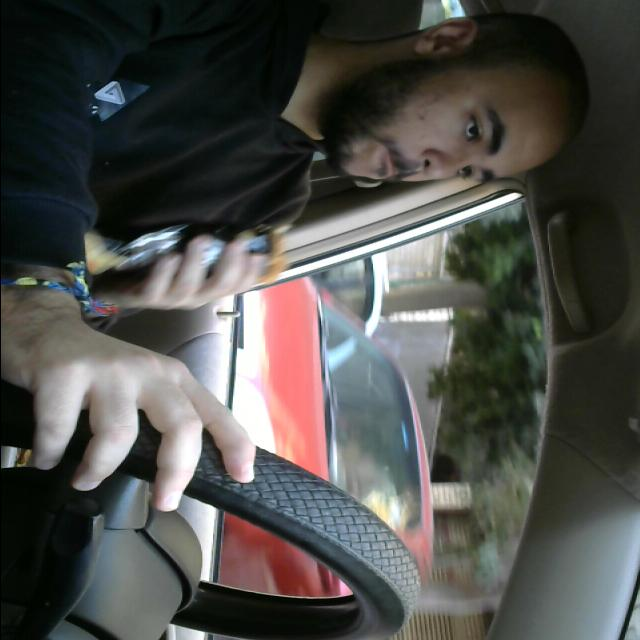eating: (55, 214, 299, 308)
